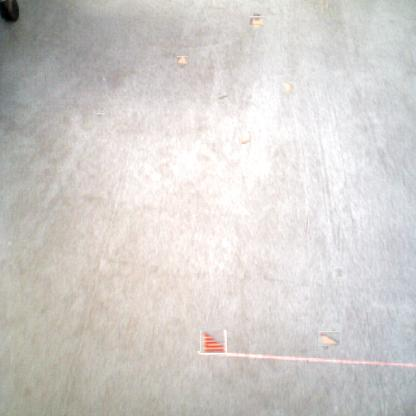dirty: (201, 329, 227, 354), (320, 330, 339, 348), (280, 82, 294, 94), (251, 15, 264, 27), (240, 132, 251, 144), (177, 55, 188, 66), (315, 1, 327, 11)
mark: (218, 93, 228, 103), (334, 267, 343, 278), (304, 214, 308, 233), (98, 112, 105, 119)
